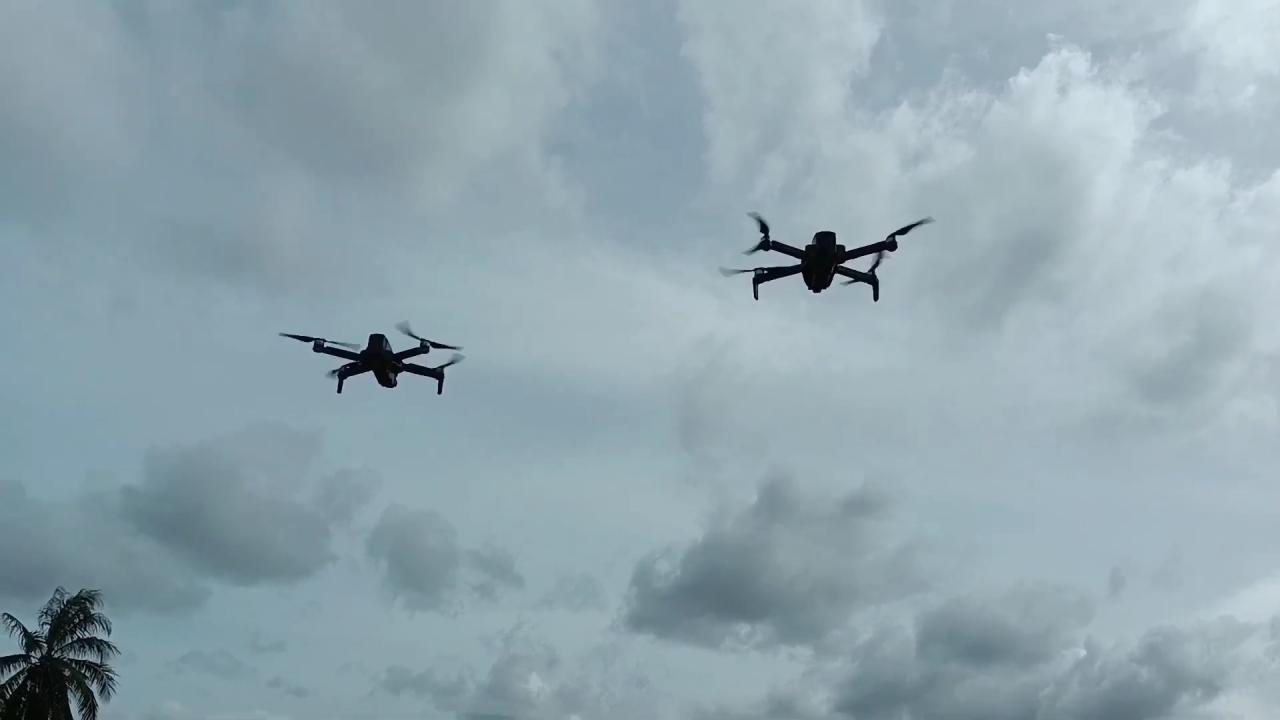Drone: (706, 199, 955, 320), (270, 306, 485, 410)
